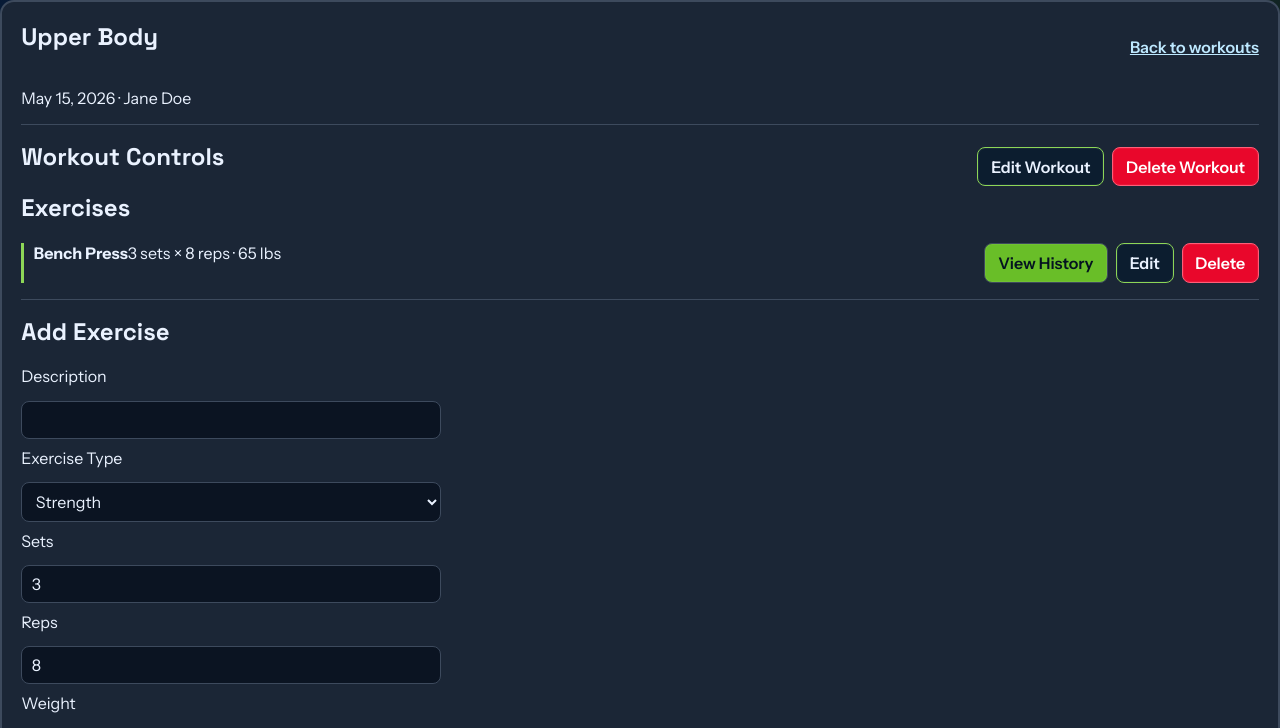
WorkoutDetailPage › shows an error when exercise deletion fails
Expected: the heading "Upper Body" is shown, [21,21,158,52]
What coordinates should you click on to do the following:
click the button "Delete"
I would click on:
 (1220, 263)
Its box is [1182,243,1259,282].
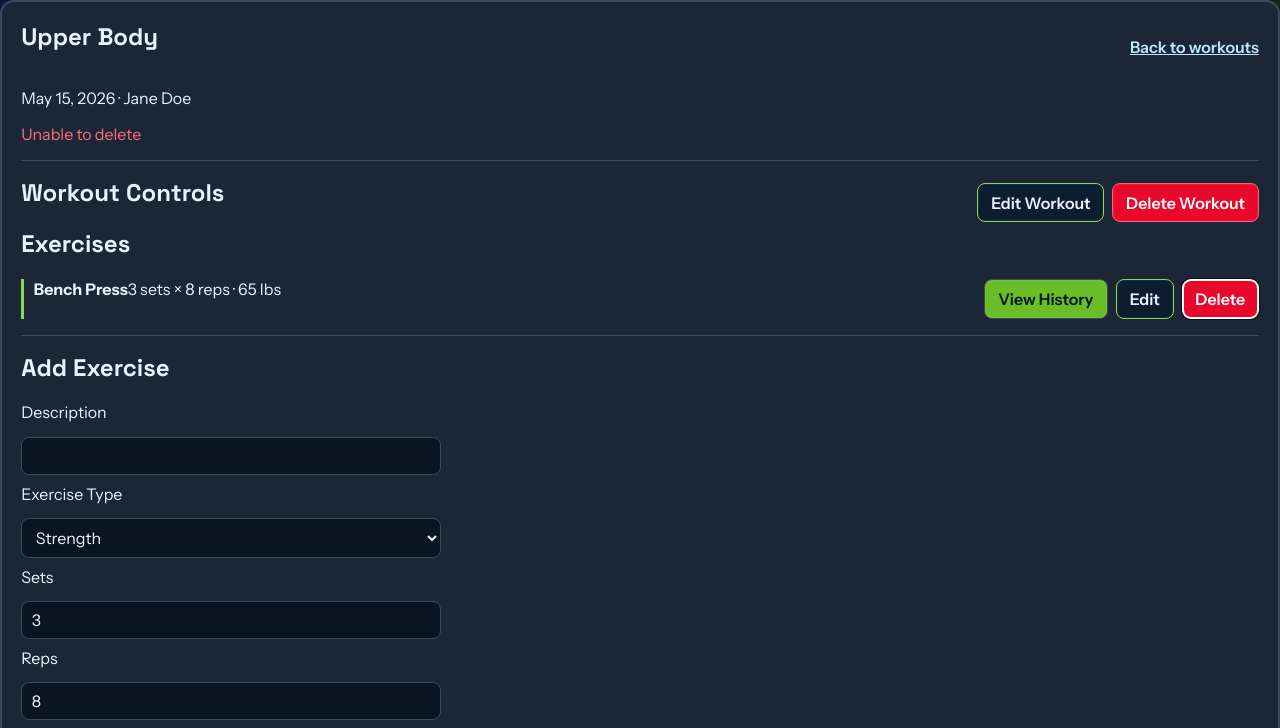
Expected: the text "Unable to delete" is shown, [21,124,141,144]
